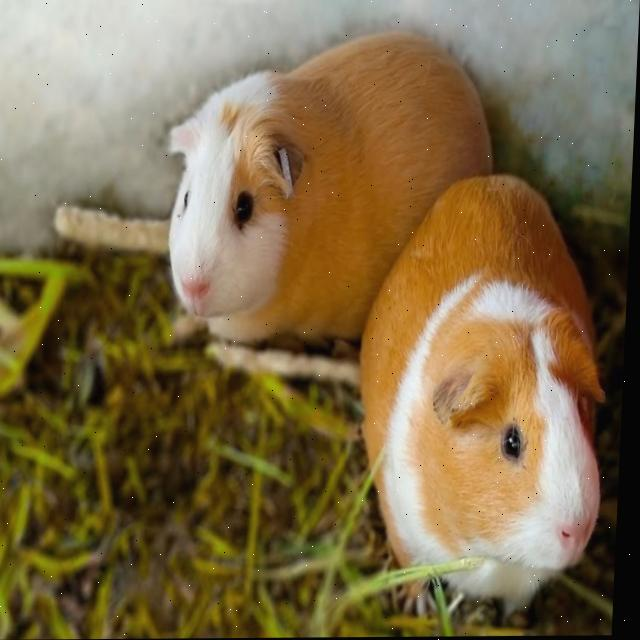guinea pig: (352, 172, 631, 625), (163, 29, 519, 328)
